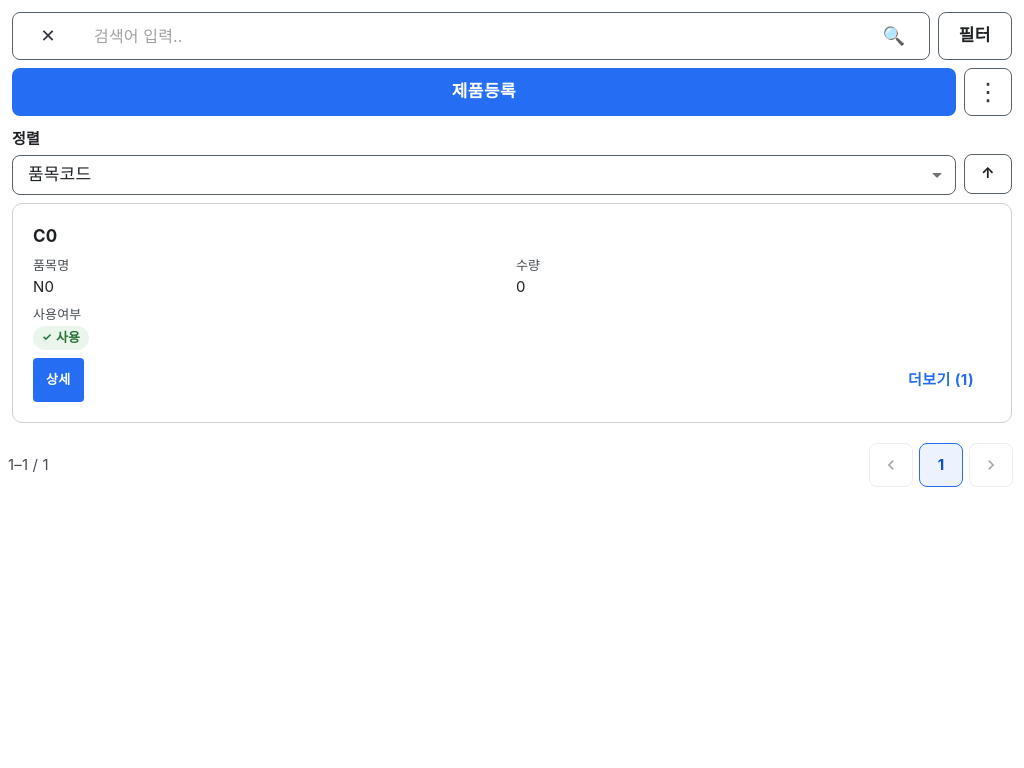
Scenario: MjGrid mobile layout › tapping a card opens the form as a bottom sheet with full-width fields
This screenshot has width=1024, height=768.
Click the element with test id "mj-card" at coordinates (512, 313), box [12, 202, 1012, 423]
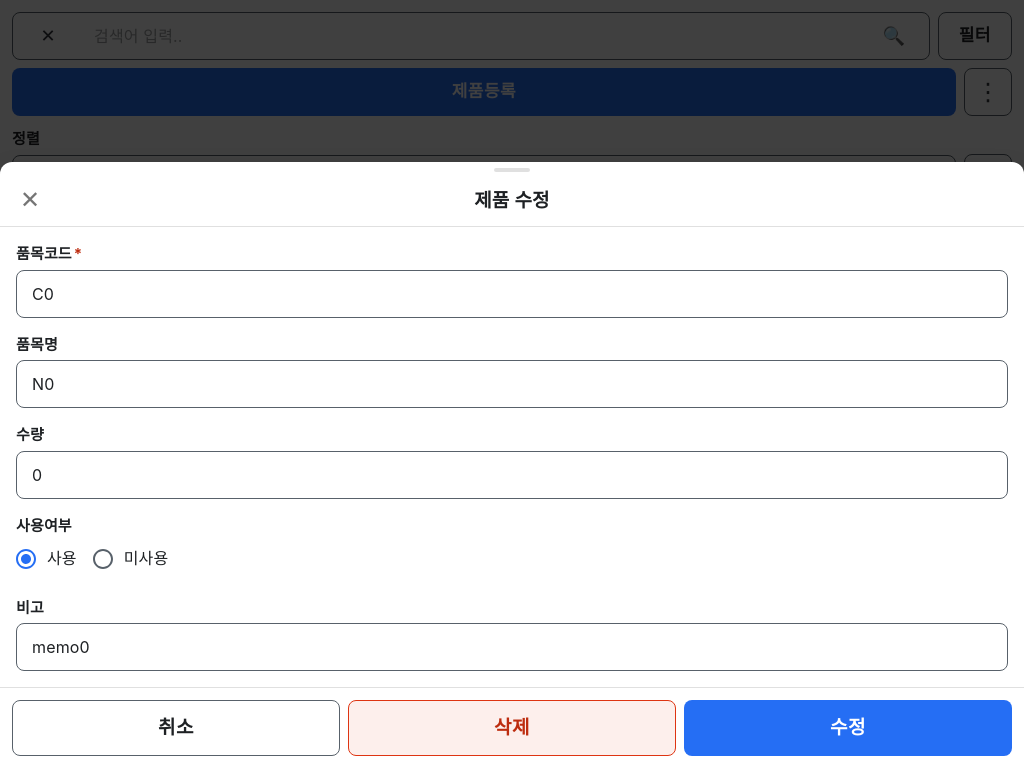
Expected: the field labelled "품목코드*" holds "C0", [16, 270, 1008, 318]
Expected: the button named "닫기" is shown
Click the button named "닫기" at coordinates (30, 200), box [8, 178, 52, 222]
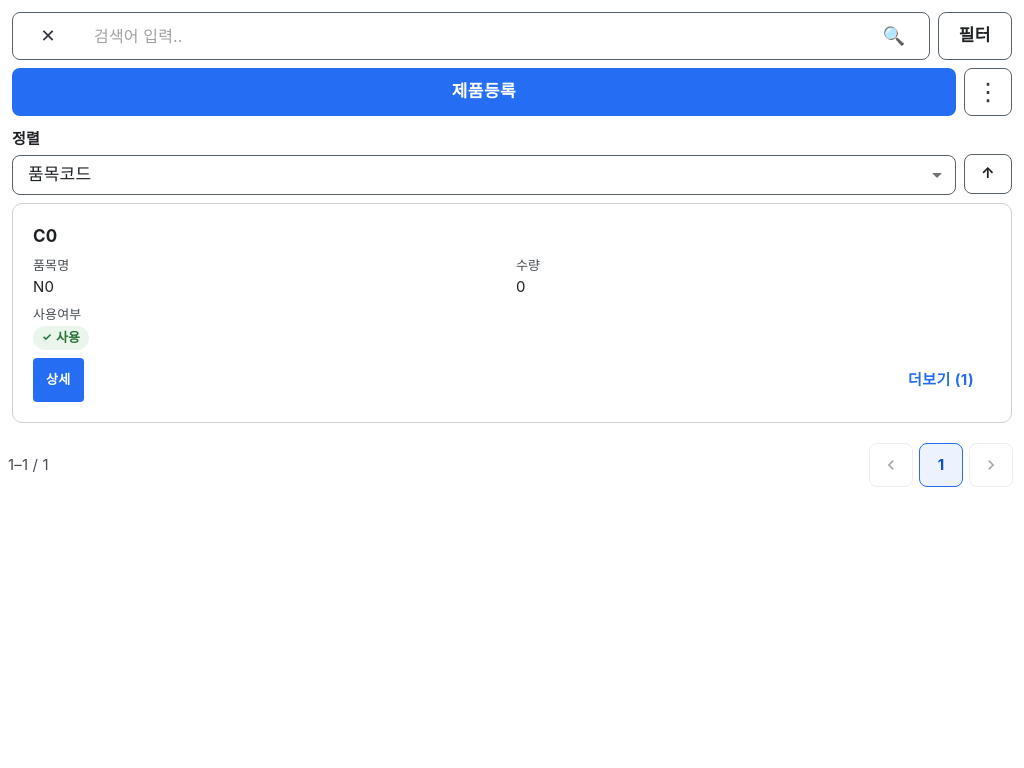
Expected: the form with test id "mj-form" is gone
